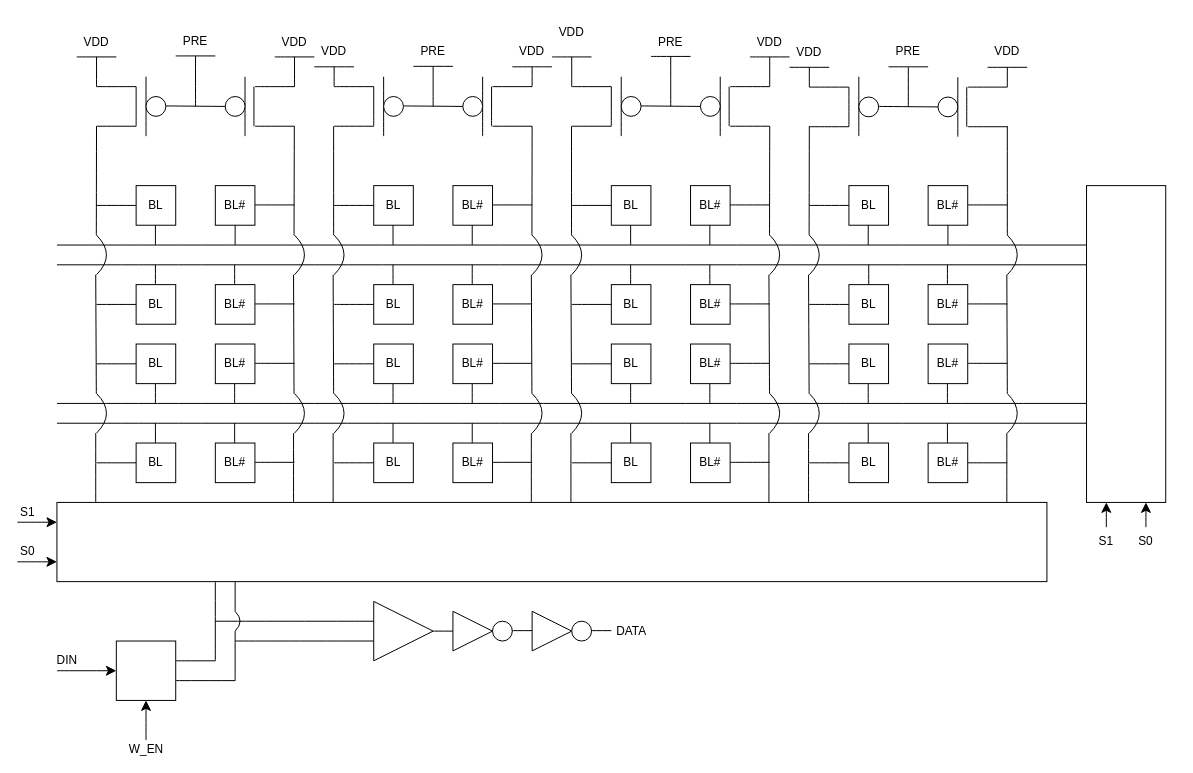
This 1193x773 diagram has some shape labels left out. Here are the shapes that lost their labels. From the top down, the centre of each, then its label:
point (1126, 343): ROW DECODER & DRIVER
point (551, 541): COLUMN MULTIPLEXER
point (403, 630): SENSE AMP
point (145, 670): R/W CKT
